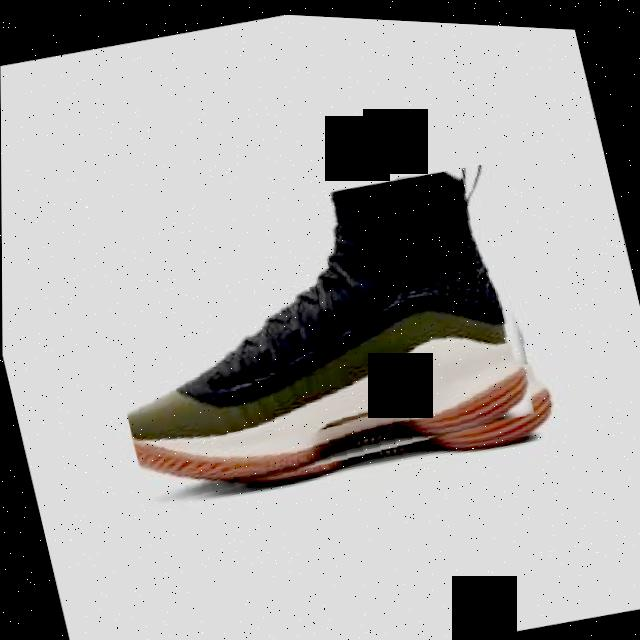shoe: (84, 139, 559, 523)
